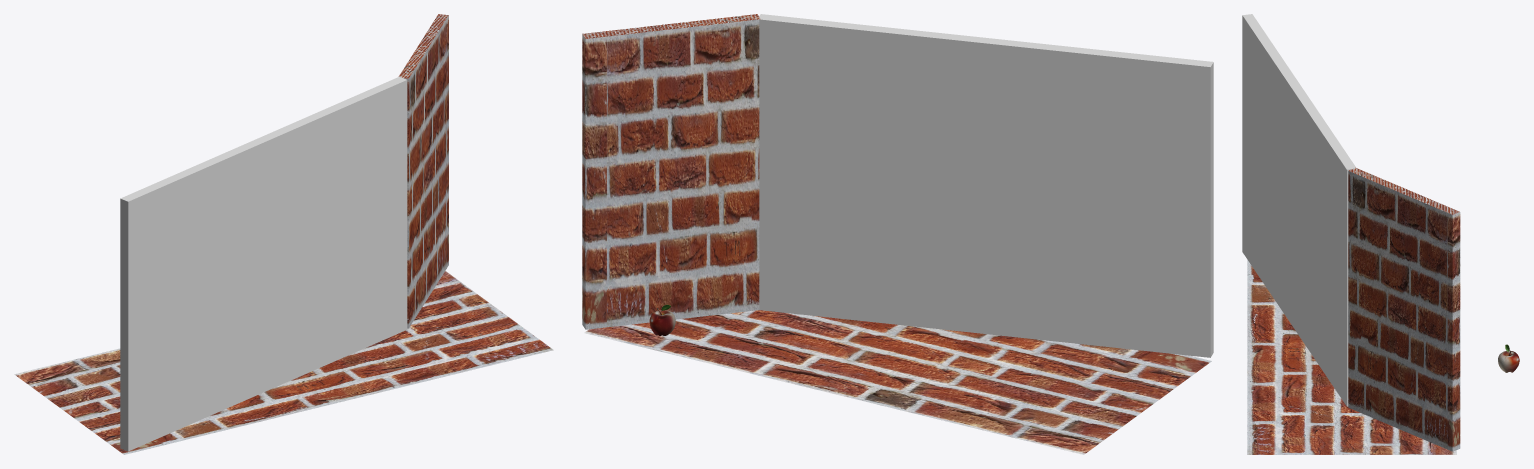
The picture shows the model from 3 angles, left to right: view 1: azimuth 30°, elevation 25°; view 2: azimuth 150°, elevation 25°; view 3: azimuth 270°, elevation 25°; orthographic projection. The views are drawn at different scales.
Visible parts, largest first — view 1: Wall.001, FloorObject, Wall; view 2: Wall.001, Wall, FloorObject, world; view 3: Wall, Wall.001, FloorObject, world.
Part boxes in pixels (box(x1,y1,x2,y2)): Wall.001: box(120, 76, 407, 451); FloorObject: box(14, 271, 553, 454); Wall: box(398, 14, 448, 328); Wall.001: box(759, 14, 1213, 357); Wall: box(582, 14, 760, 329); FloorObject: box(584, 310, 1211, 454); world: box(649, 304, 675, 335); Wall: box(1348, 167, 1460, 451); Wall.001: box(1242, 14, 1356, 406); FloorObject: box(1247, 260, 1456, 454); world: box(1498, 344, 1519, 372).
Bounding box in the file's own units: 9.1 × 5.1 × 5.3.
Materials: 4 (3 with a texture image).
